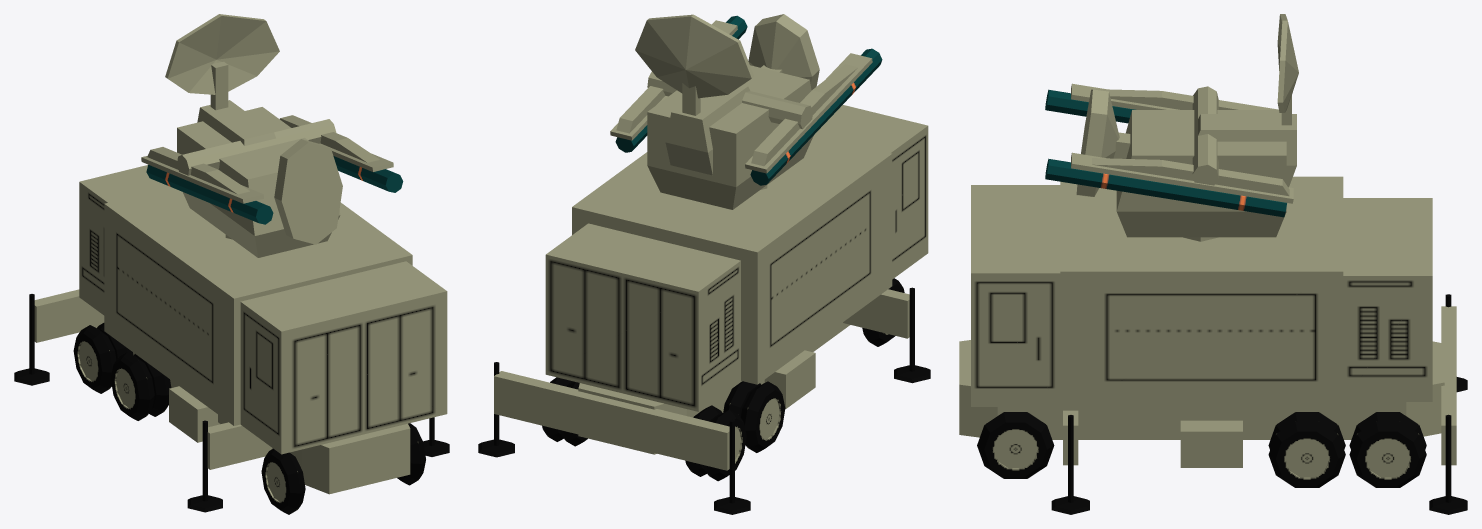
Rendered from AIRCM.glb.
3 views of the same model, side by side, from view 1: azimuth 30°, elevation 25°; view 2: azimuth 150°, elevation 25°; view 3: azimuth 270°, elevation 25° (orthographic). The views are drawn at different scales.
Parts seen in each view (by area): view 1: roland2-site.3ds_command_Geometry_0, roland2-site.3ds_front_back_Geometry_0, roland2-site.3ds_roland_Geometry_0, roland2-site.3ds_roland_Geometry_1, roland2-site.3ds_wheels_Geometry_0, roland2-site.3ds_wheels_bas_Geometry_1, roland2-site.3ds_wheels_bas_Geometry_0, roland2-site.3ds_wheels_bas_Geometry_2, roland2-site.3ds_legs_Geometry_0, roland2-site.3ds_wheels_Geometry_1, roland2-site.3ds_roland_Geometry_2; view 2: roland2-site.3ds_command_Geometry_0, roland2-site.3ds_front_back_Geometry_0, roland2-site.3ds_roland_Geometry_0, roland2-site.3ds_wheels_bas_Geometry_0, roland2-site.3ds_roland_Geometry_1, roland2-site.3ds_wheels_Geometry_0, roland2-site.3ds_wheels_bas_Geometry_2, roland2-site.3ds_legs_Geometry_0, roland2-site.3ds_roland_Geometry_2, roland2-site.3ds_wheels_bas_Geometry_1, roland2-site.3ds_wheels_Geometry_1; view 3: roland2-site.3ds_command_Geometry_0, roland2-site.3ds_roland_Geometry_0, roland2-site.3ds_wheels_Geometry_0, roland2-site.3ds_wheels_bas_Geometry_0, roland2-site.3ds_roland_Geometry_1, roland2-site.3ds_wheels_bas_Geometry_2, roland2-site.3ds_wheels_Geometry_1, roland2-site.3ds_wheels_bas_Geometry_1, roland2-site.3ds_roland_Geometry_2, roland2-site.3ds_legs_Geometry_0.
Part boxes in pixels (x1,y1,x2,y2): roland2-site.3ds_command_Geometry_0: [79, 165, 446, 453]; roland2-site.3ds_front_back_Geometry_0: [234, 255, 447, 454]; roland2-site.3ds_roland_Geometry_0: [146, 14, 398, 257]; roland2-site.3ds_roland_Geometry_1: [141, 16, 403, 244]; roland2-site.3ds_wheels_Geometry_0: [73, 323, 425, 514]; roland2-site.3ds_wheels_bas_Geometry_1: [34, 305, 410, 494]; roland2-site.3ds_wheels_bas_Geometry_0: [36, 296, 301, 469]; roland2-site.3ds_wheels_bas_Geometry_2: [34, 289, 410, 493]; roland2-site.3ds_legs_Geometry_0: [14, 294, 449, 512]; roland2-site.3ds_wheels_Geometry_1: [79, 341, 286, 501]; roland2-site.3ds_roland_Geometry_2: [141, 61, 392, 198]; roland2-site.3ds_command_Geometry_0: [546, 105, 928, 411]; roland2-site.3ds_front_back_Geometry_0: [545, 207, 757, 411]; roland2-site.3ds_roland_Geometry_0: [610, 14, 882, 209]; roland2-site.3ds_wheels_bas_Geometry_0: [494, 294, 907, 470]; roland2-site.3ds_roland_Geometry_1: [615, 16, 872, 185]; roland2-site.3ds_wheels_Geometry_0: [542, 278, 904, 481]; roland2-site.3ds_wheels_bas_Geometry_2: [494, 289, 909, 454]; roland2-site.3ds_legs_Geometry_0: [478, 287, 930, 514]; roland2-site.3ds_roland_Geometry_2: [610, 20, 871, 169]; roland2-site.3ds_wheels_bas_Geometry_1: [578, 300, 909, 470]; roland2-site.3ds_wheels_Geometry_1: [735, 398, 779, 459]; roland2-site.3ds_command_Geometry_0: [971, 176, 1432, 410]; roland2-site.3ds_roland_Geometry_0: [1046, 14, 1296, 241]; roland2-site.3ds_wheels_Geometry_0: [977, 412, 1426, 487]; roland2-site.3ds_wheels_bas_Geometry_0: [997, 402, 1406, 439]; roland2-site.3ds_roland_Geometry_1: [1045, 15, 1298, 203]; roland2-site.3ds_wheels_bas_Geometry_2: [959, 306, 1456, 437]; roland2-site.3ds_wheels_Geometry_1: [993, 430, 1410, 477]; roland2-site.3ds_wheels_bas_Geometry_1: [1063, 425, 1456, 467]; roland2-site.3ds_roland_Geometry_2: [1072, 83, 1293, 198]; roland2-site.3ds_legs_Geometry_0: [1051, 294, 1467, 514].
Bounding box in the file's own units: 4.3 × 6.13 × 6.63.
1 material, 1 textured.
